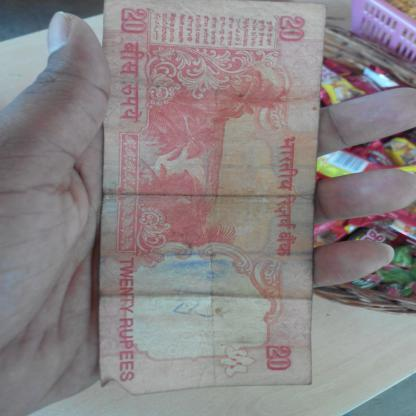Old20Back: (98, 0, 328, 396)
